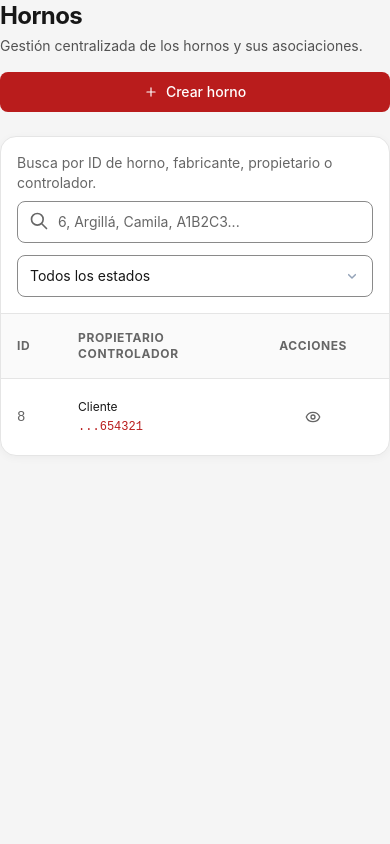
it: technician equipment management › shows the safe controller information available to technicians from the kiln list
The image size is (390, 844).
Click the button titled "Ver información del controlador" at (110, 427), box [78,419,143,435]
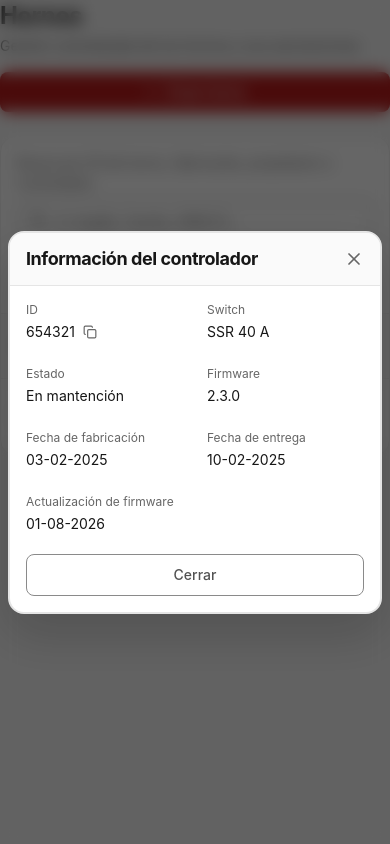
Check: the text "654321" is shown, box [26,322,75,342]
Check: the text "SSR 40 A" is shown, box [207,322,269,342]
Check: the text "En mantención" is shown, box [26,386,124,406]
